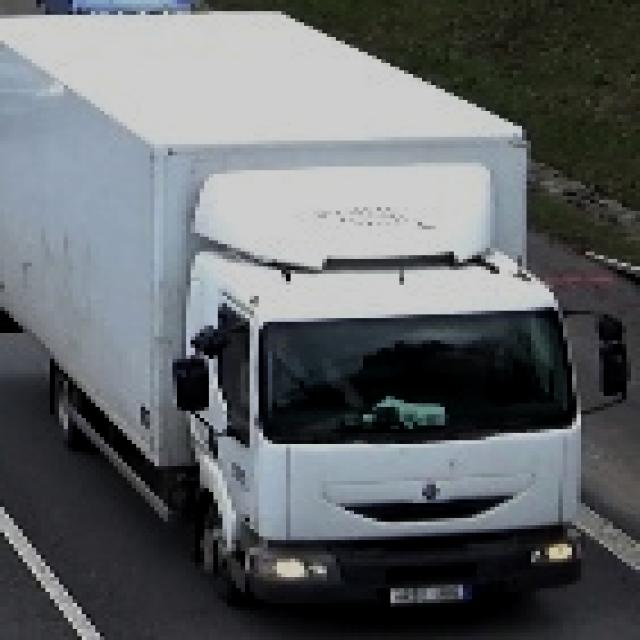truck: (1, 8, 627, 618)
